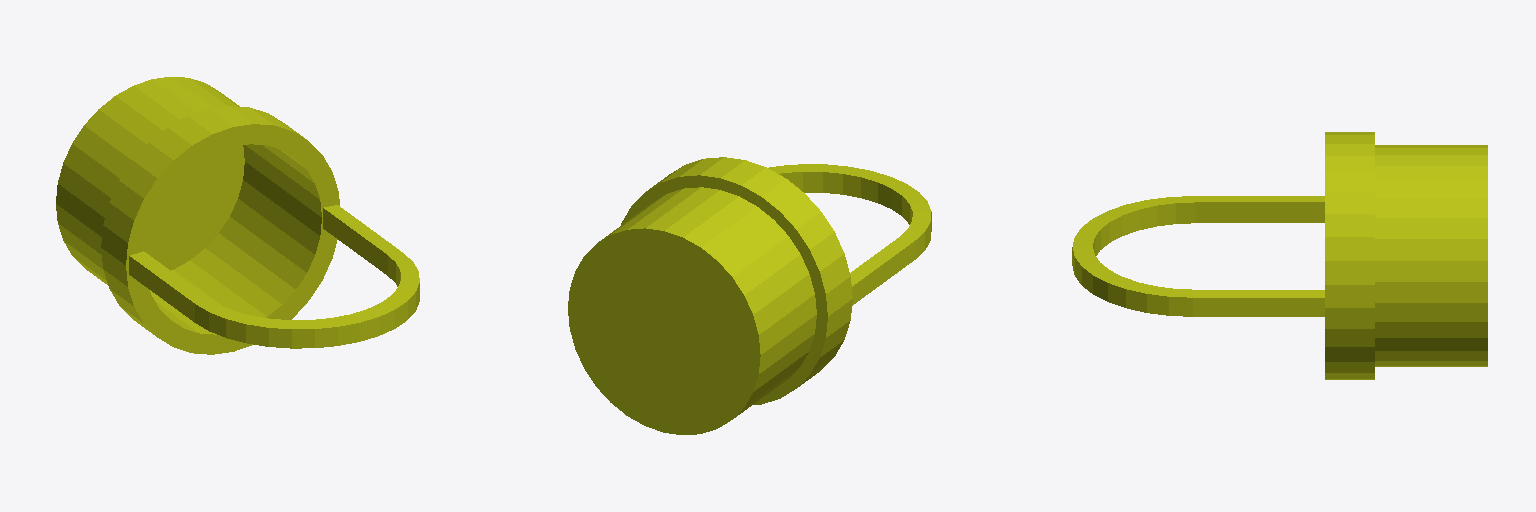
Rendered from pozoAmarillo.obj.
The picture shows the model from 3 angles: view 1: azimuth 30°, elevation 25°; view 2: azimuth 150°, elevation 25°; view 3: azimuth 270°, elevation 25°; orthographic projection.
Parts seen in each view (by area): view 1: Cylinder.001, Cylinder_Cylinder.002; view 2: Cylinder.001, Cylinder_Cylinder.002; view 3: Cylinder.001, Cylinder_Cylinder.002.
Boxes of the visible parts, <box> form: Cylinder.001: <box>56,77,339,354</box>; Cylinder_Cylinder.002: <box>129,205,419,348</box>; Cylinder.001: <box>568,157,852,434</box>; Cylinder_Cylinder.002: <box>768,164,931,305</box>; Cylinder.001: <box>1325,132,1487,379</box>; Cylinder_Cylinder.002: <box>1072,196,1324,316</box>.
Bounding box in the file's own units: 4.81 × 4.81 × 8.04.